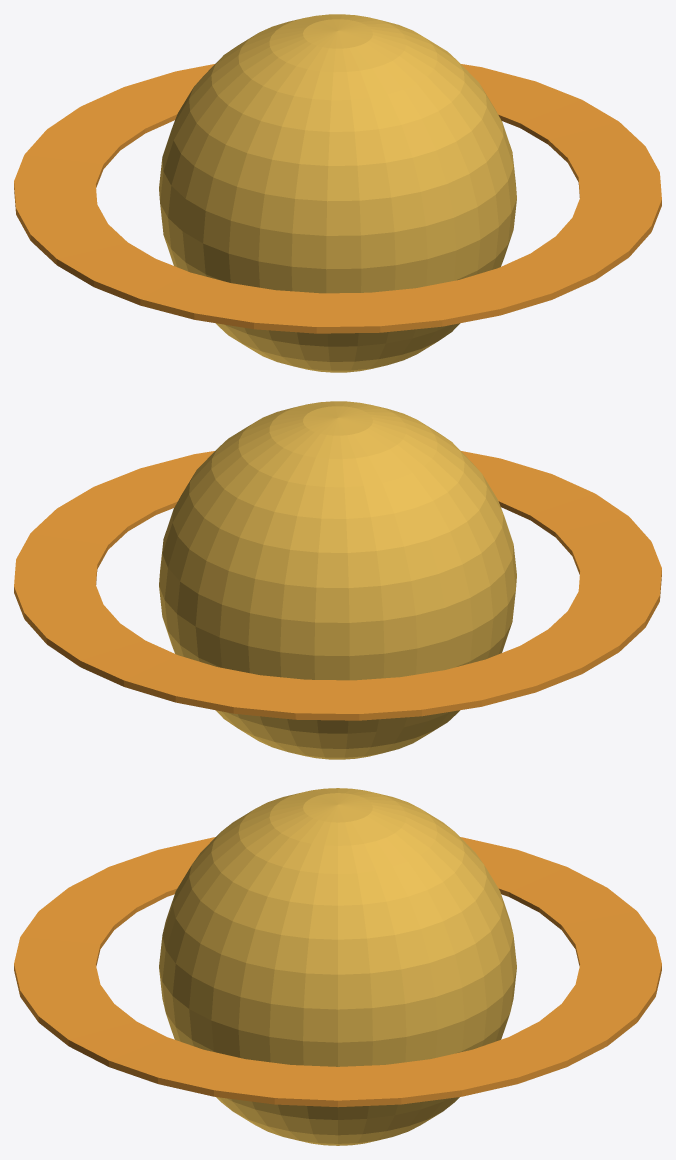
File: saturn.fbx
3 views of the same model, one above another, from view 1: azimuth 30°, elevation 25°; view 2: azimuth 150°, elevation 25°; view 3: azimuth 270°, elevation 25° (orthographic).
Visible parts, largest first — view 1: Sphere, Cylinder; view 2: Sphere, Cylinder; view 3: Sphere, Cylinder.
Boxes of the visible parts, x1,y1,x2,y2 form: Sphere: (159, 14, 516, 372); Cylinder: (14, 64, 661, 333); Sphere: (159, 401, 516, 759); Cylinder: (14, 451, 661, 720); Sphere: (159, 788, 516, 1145); Cylinder: (14, 837, 661, 1107).
Size of the model in its own units: 3.62 by 2 by 3.62.
